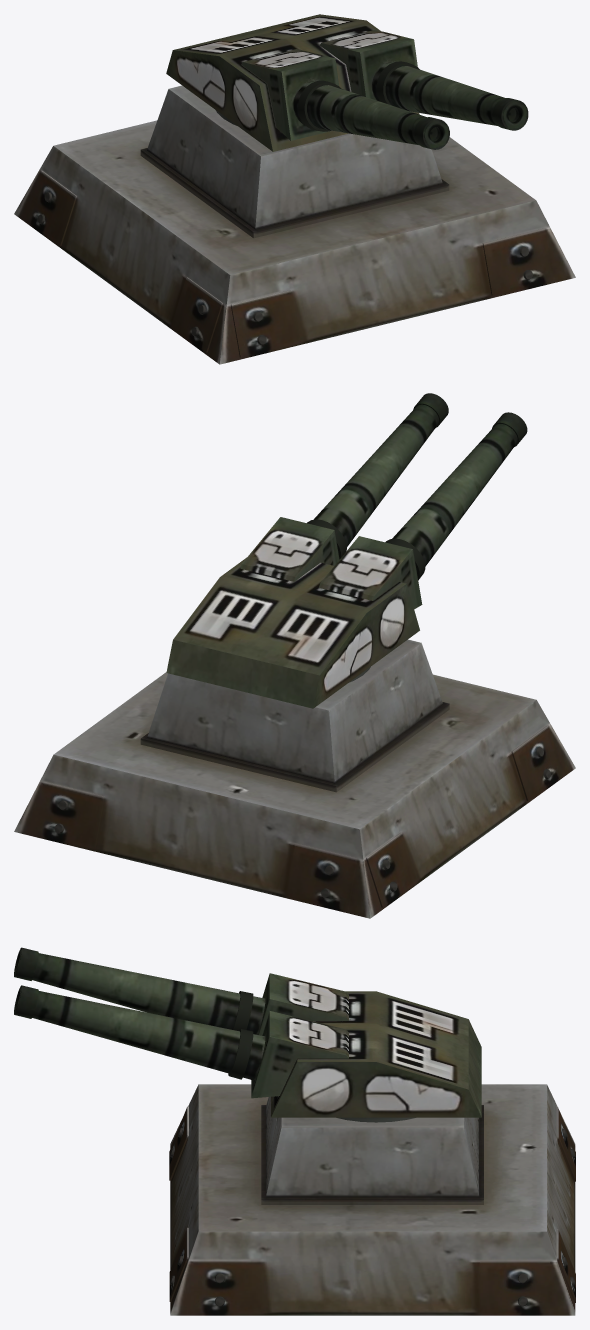
File: orbitalturret_cad.glb
The picture shows the model from 3 angles, top to bottom: view 1: azimuth 30°, elevation 25°; view 2: azimuth 150°, elevation 25°; view 3: azimuth 270°, elevation 25°; orthographic projection.
Parts seen in each view (by area): view 1: Base; view 2: Base; view 3: Base.
Part boxes in pixels (x1,y1,x2,y2): Base: (14, 14, 575, 364); Base: (14, 393, 575, 918); Base: (14, 947, 575, 1315).
Bounding box in the file's own units: 15.92 × 11.33 × 22.01.
Materials: 1 (1 with a texture image).
